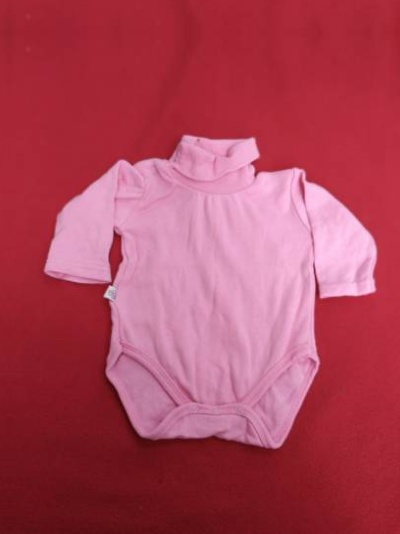Body: (52, 110, 376, 478)
